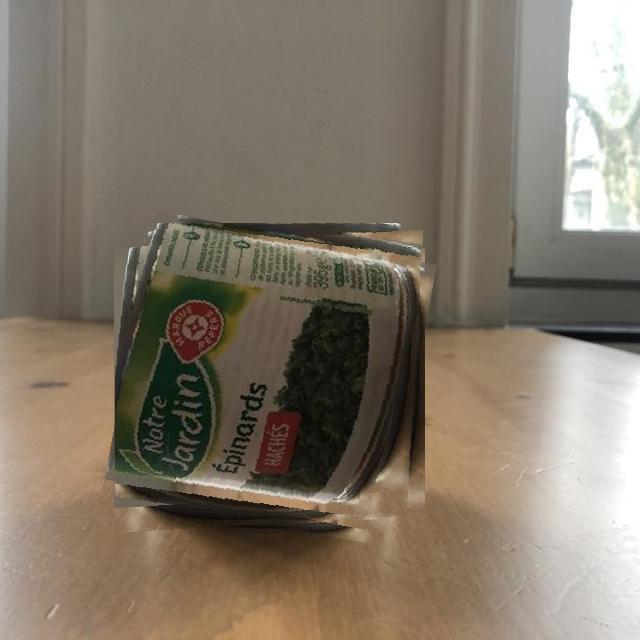recyclable: (115, 223, 425, 534)
